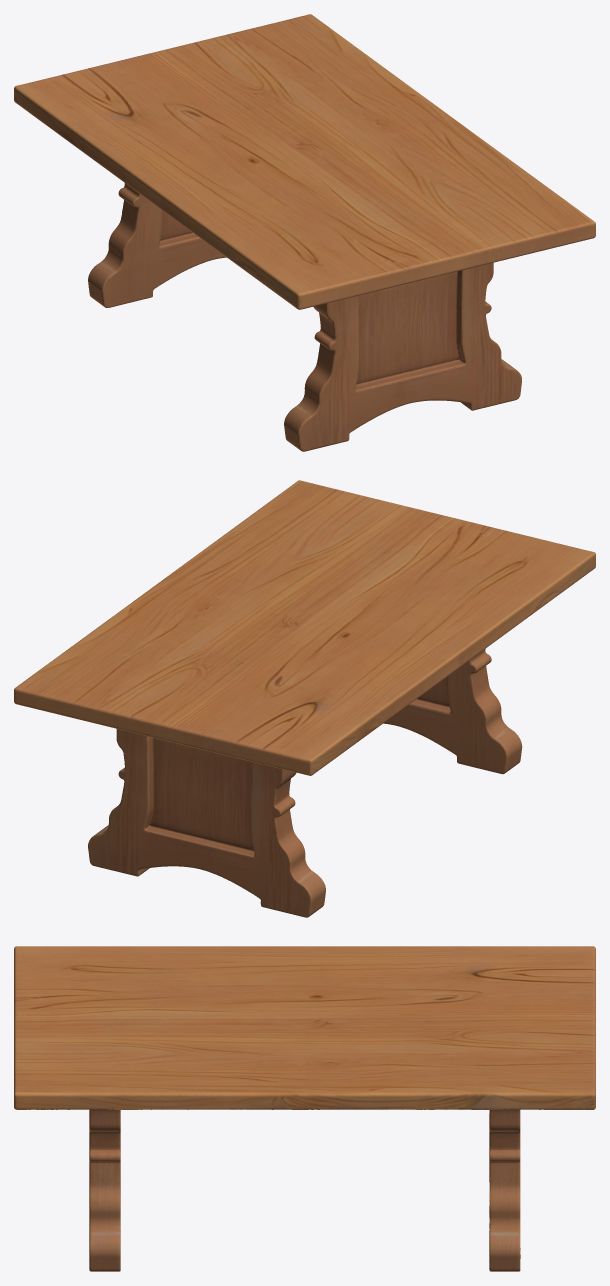
The model's file is detailed_realistic_model_largeoaktable_07.glb.
The picture shows the model from 3 angles, top to bottom: view 1: azimuth 30°, elevation 25°; view 2: azimuth 150°, elevation 25°; view 3: azimuth 270°, elevation 25°; orthographic projection.
Parts seen in each view (by area): view 1: tripo_node_53a9198f-0edf-4e52-89c2-6ab64e153d02; view 2: tripo_node_53a9198f-0edf-4e52-89c2-6ab64e153d02; view 3: tripo_node_53a9198f-0edf-4e52-89c2-6ab64e153d02.
Part boxes in pixels (x1,y1,x2,y2): tripo_node_53a9198f-0edf-4e52-89c2-6ab64e153d02: [14, 14, 595, 451]; tripo_node_53a9198f-0edf-4e52-89c2-6ab64e153d02: [14, 480, 595, 917]; tripo_node_53a9198f-0edf-4e52-89c2-6ab64e153d02: [14, 946, 595, 1271].
Size of the model in its own units: 0.6043 by 0.3775 by 1.
Materials: 1 (1 with a texture image).
